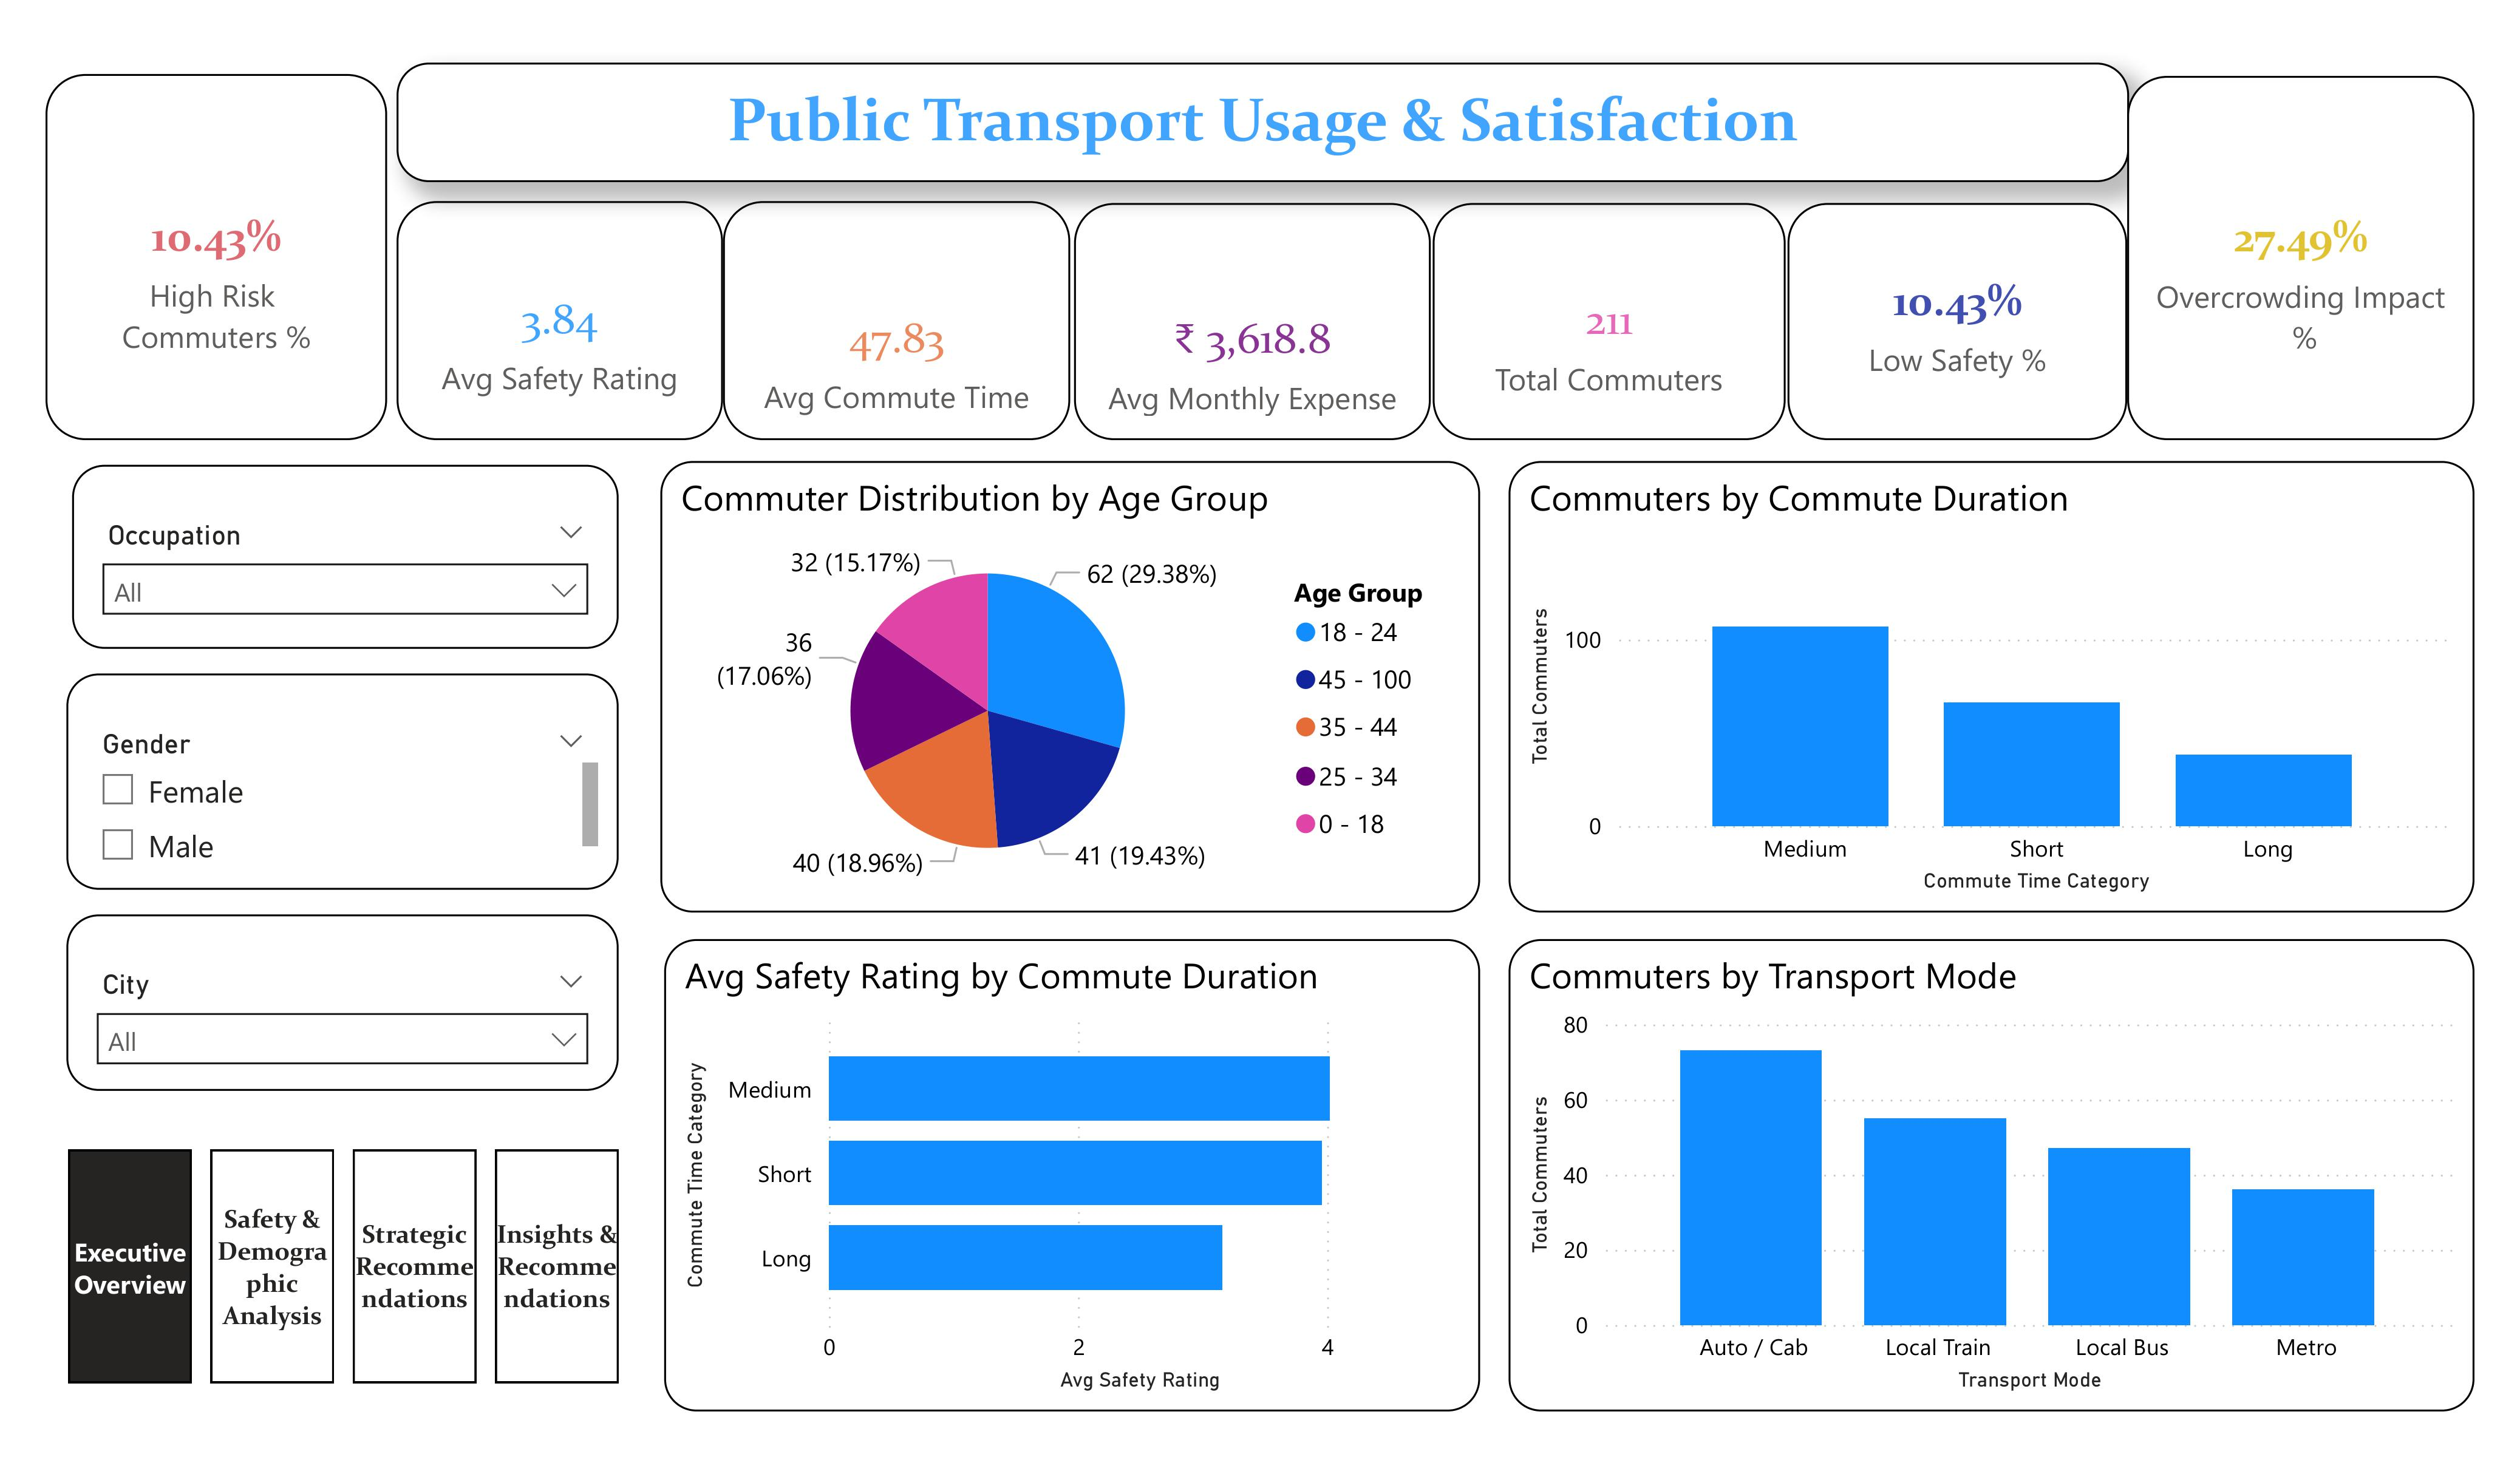

Layout of this report page (visuals, bound fields, positions):
{"tool":"powerbi","page":{"name":"Overview","canvas":[1280,720],"ordinal":0},"visuals":[{"type":"card","title":"👥 Total Commuters","fields":{"Values":["DAX Measures.Total Commuters"]},"box":[731.8,83.8,185.1,114.6],"z":0},{"type":"card","title":"🛡 Avg Safety Rating","fields":{"Values":["DAX Measures.Avg Safety Rating"]},"box":[185.1,82.3,171.9,114.6],"z":1000},{"type":"pieChart","title":"Commuter Distribution by Age Group","fields":{"Category":["Public Commute Data.Age Group"],"Y":["DAX Measures.Total Commuters"]},"box":[336.5,213.1,430.5,238],"z":1000},{"type":"card","title":"⏱ Avg Commute Time (min)","fields":{"Values":["DAX Measures.Avg Commute Time"]},"box":[358.5,83.8,182.2,114.6],"z":2000},{"type":"slicer","title":"Filter: Gender","fields":{"Values":["Public Commute Data.Gender"]},"box":[11.8,323.3,290.9,114.6],"z":2000},{"type":"card","title":"💰 Avg Monthly Expense (₹)","fields":{"Values":["DAX Measures.Avg Monthly Expense"]},"box":[542.2,83.8,188.1,116.1],"z":3000},{"type":"slicer","title":"Filter: Occupation","fields":{"Values":["Public Commute Data.Occupation"]},"box":[13.2,207.2,289.5,102.9],"z":3000},{"type":"clusteredColumnChart","title":"Commuters by Transport Mode","fields":{"Category":["Public Commute Data.Transport Mode"],"Y":["DAX Measures.Total Commuters"]},"box":[787.6,471.7,459.9,248.3],"z":4000},{"type":"clusteredColumnChart","title":"Commuters by Commute Duration","fields":{"Category":["Public Commute Data.Commute Time Category"],"Y":["DAX Measures.Total Commuters"]},"box":[787.6,213.1,459.9,238],"z":5000},{"type":"clusteredBarChart","title":"Avg Safety Rating by Commute Duration","fields":{"Category":["Public Commute Data.Commute Time Category"],"Y":["DAX Measures.Avg Safety Rating"]},"box":[336.5,471.7,430.5,248.3],"z":6000},{"type":"slicer","title":"Filter: City","fields":{"Values":["Public Commute Data.City"]},"box":[11.8,451.1,290.9,94],"z":7000},{"type":"textbox","box":[185.1,8.8,912.5,63.2],"z":8000},{"type":"pageNavigator","box":[11.8,581.9,290.9,123.4],"z":9000},{"type":"card","fields":{"Values":["DAX Measures.High Risk Commuters %"]},"box":[0,14.7,180.7,180.7],"z":9002},{"type":"card","fields":{"Values":["DAX Measures.Low Safety %"]},"box":[918.4,83.8,179.3,113.1],"z":9003},{"type":"card","fields":{"Values":["DAX Measures.Overcrowding Impact %"]},"box":[1097.8,16.2,182.2,180.7],"z":9004}]}

Visuals, with their boxes on the page's 1280x720 design canvas (x1, y1, x2, y2). These are canvas units, not pixel positions in the 2520x1457 screenshot, which may show the page scaled, cropped or inside an application window:
"👥 Total Commuters" card: bbox(732, 84, 917, 198)
"🛡 Avg Safety Rating" card: bbox(185, 82, 357, 197)
"Commuter Distribution by Age Group" pieChart: bbox(336, 213, 767, 451)
"⏱ Avg Commute Time (min)" card: bbox(358, 84, 541, 198)
"Filter: Gender" slicer: bbox(12, 323, 303, 438)
"💰 Avg Monthly Expense (₹)" card: bbox(542, 84, 730, 200)
"Filter: Occupation" slicer: bbox(13, 207, 303, 310)
"Commuters by Transport Mode" clusteredColumnChart: bbox(788, 472, 1248, 720)
"Commuters by Commute Duration" clusteredColumnChart: bbox(788, 213, 1248, 451)
"Avg Safety Rating by Commute Duration" clusteredBarChart: bbox(336, 472, 767, 720)
"Filter: City" slicer: bbox(12, 451, 303, 545)
textbox: bbox(185, 9, 1098, 72)
pageNavigator: bbox(12, 582, 303, 705)
card - DAX Measures.High Risk Commuters %: bbox(0, 15, 181, 195)
card - DAX Measures.Low Safety %: bbox(918, 84, 1098, 197)
card - DAX Measures.Overcrowding Impact %: bbox(1098, 16, 1280, 197)
